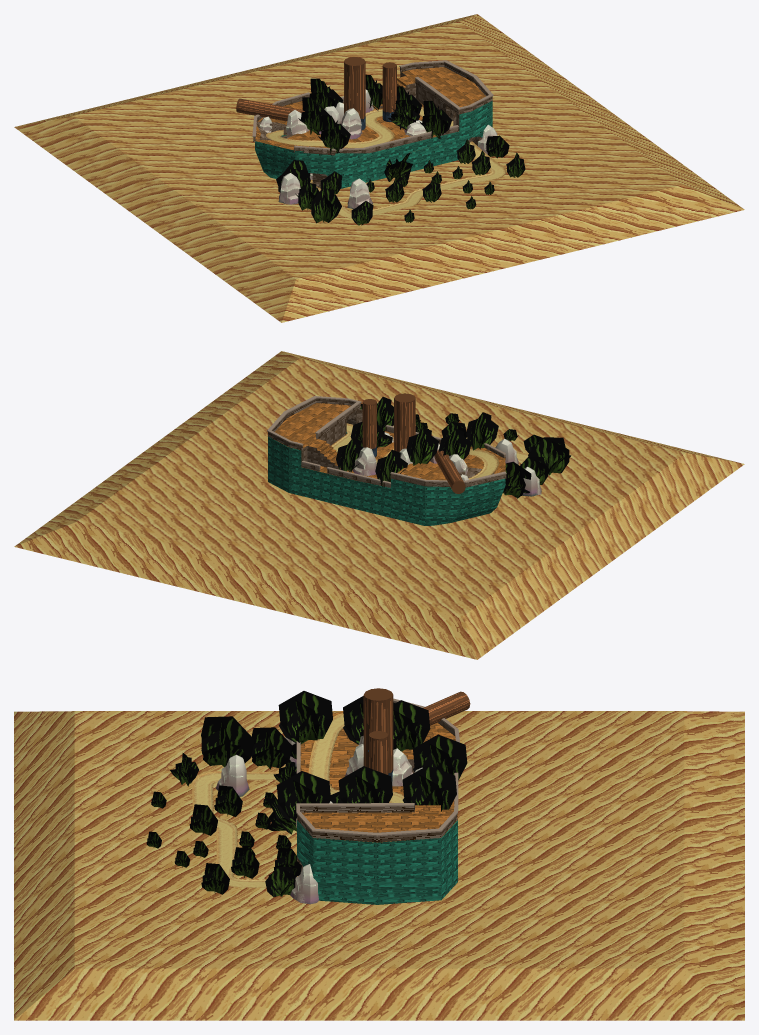
The model's file is pista.gltf.
The picture shows the model from 3 angles, top to bottom: view 1: azimuth 30°, elevation 25°; view 2: azimuth 150°, elevation 25°; view 3: azimuth 270°, elevation 25°; orthographic projection. The views are drawn at different scales.
Parts seen in each view (by area): view 1: Plane.001, Top, Cylinder.023, Top.002, Pista_percurso_Curv, Mid, SEAWEED.023, SEAWEED.009, SEAWEED.028, casco, SEAWEED.010, SEAWEED.011 (+2 smaller); view 2: Plane.001, Top, Top.002, Mid, Cylinder.023, casco, SEAWEED.023, Pista_percurso_Curv, SEAWEED.011, SEAWEED.009, SEAWEED.008, SEAWEED.010 (+3 smaller); view 3: Plane.001, Top, Pista_percurso_Curv, Top.002, Cylinder.023, Mid, SEAWEED.009, SEAWEED.023, SEAWEED.013, SEAWEED.028, SEAWEED.029, SEAWEED.012 (+12 smaller).
Boxes of the visible parts, x1=… form: Plane.001: x1=14, y1=14, x2=744, y2=322; Top: x1=255, y1=67, x2=492, y2=170; Cylinder.023: x1=236, y1=57, x2=396, y2=130; Top.002: x1=252, y1=60, x2=493, y2=155; Pista_percurso_Curv: x1=266, y1=107, x2=506, y2=218; Mid: x1=259, y1=126, x2=492, y2=182; SEAWEED.023: x1=307, y1=180, x2=341, y2=223; SEAWEED.009: x1=318, y1=115, x2=350, y2=153; SEAWEED.028: x1=419, y1=101, x2=451, y2=138; casco: x1=264, y1=153, x2=458, y2=188; SEAWEED.010: x1=298, y1=97, x2=329, y2=134; SEAWEED.011: x1=309, y1=78, x2=338, y2=108; Plane.001: x1=14, y1=351, x2=744, y2=659; Top: x1=268, y1=403, x2=505, y2=506; Top.002: x1=267, y1=396, x2=506, y2=487; Mid: x1=268, y1=462, x2=500, y2=518; Cylinder.023: x1=362, y1=393, x2=465, y2=493; casco: x1=268, y1=475, x2=496, y2=525; SEAWEED.023: x1=528, y1=437, x2=571, y2=475; Pista_percurso_Curv: x1=331, y1=423, x2=528, y2=479; SEAWEED.011: x1=406, y1=427, x2=438, y2=465; SEAWEED.009: x1=466, y1=412, x2=498, y2=450; SEAWEED.008: x1=503, y1=461, x2=531, y2=498; SEAWEED.010: x1=439, y1=428, x2=471, y2=459; Plane.001: x1=14, y1=711, x2=744, y2=1020; Top: x1=297, y1=711, x2=457, y2=878; Pista_percurso_Curv: x1=192, y1=713, x2=404, y2=887; Top.002: x1=296, y1=698, x2=459, y2=842; Cylinder.023: x1=363, y1=688, x2=470, y2=784; Mid: x1=297, y1=856, x2=457, y2=894; SEAWEED.009: x1=278, y1=691, x2=332, y2=744; SEAWEED.023: x1=201, y1=716, x2=254, y2=766; SEAWEED.013: x1=402, y1=765, x2=456, y2=811; SEAWEED.028: x1=276, y1=771, x2=330, y2=824; SEAWEED.029: x1=338, y1=766, x2=392, y2=803; SEAWEED.012: x1=413, y1=734, x2=467, y2=780.
Bounding box in the file's own units: 800 × 187 × 800.
9 materials, 9 textured.
